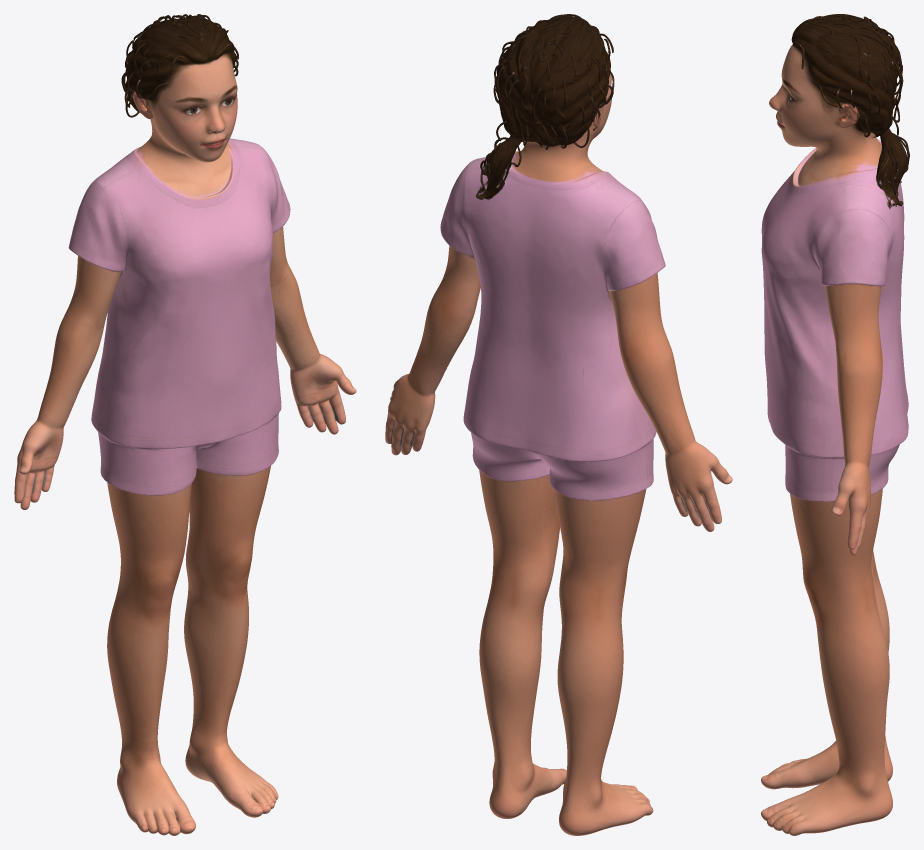
Rendered from sdturner-v4.glb.
3 views of the same model, side by side, from view 1: azimuth 30°, elevation 25°; view 2: azimuth 150°, elevation 25°; view 3: azimuth 270°, elevation 25° (orthographic).
Size of the model in its own units: 0.8555 by 1.9 by 0.3263.
Materials: 1 (1 with a texture image).
